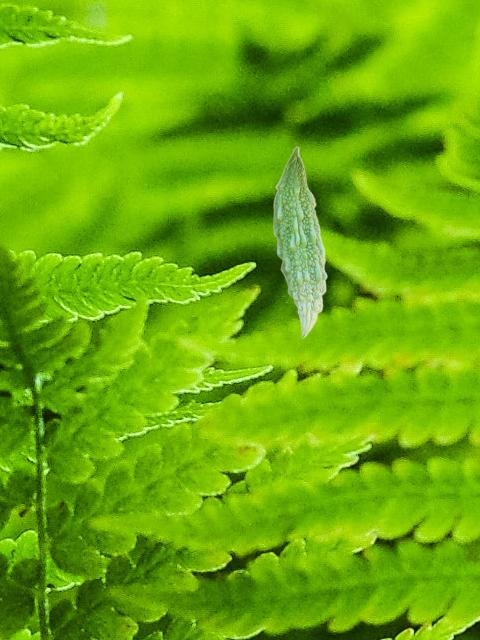ampalaya: (271, 146, 328, 338)
